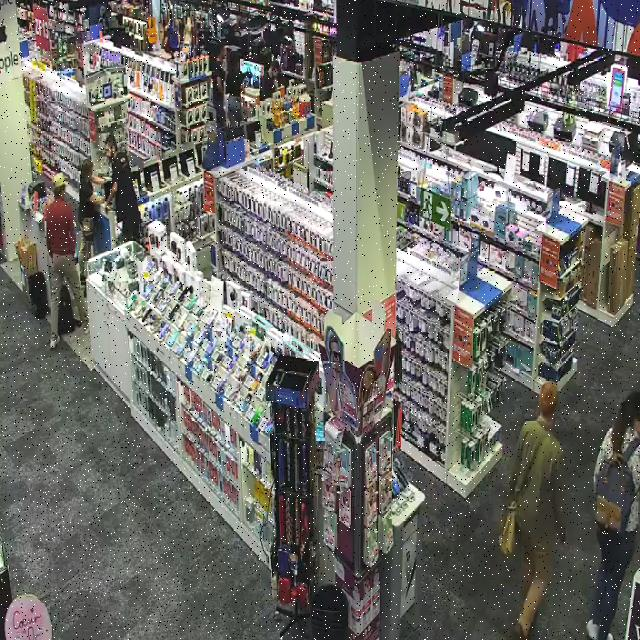bags: (595, 440, 639, 531), (498, 501, 515, 554), (58, 284, 75, 333)
person: (499, 382, 565, 639), (586, 391, 639, 639), (45, 173, 88, 349), (105, 134, 141, 242), (79, 158, 104, 286)
